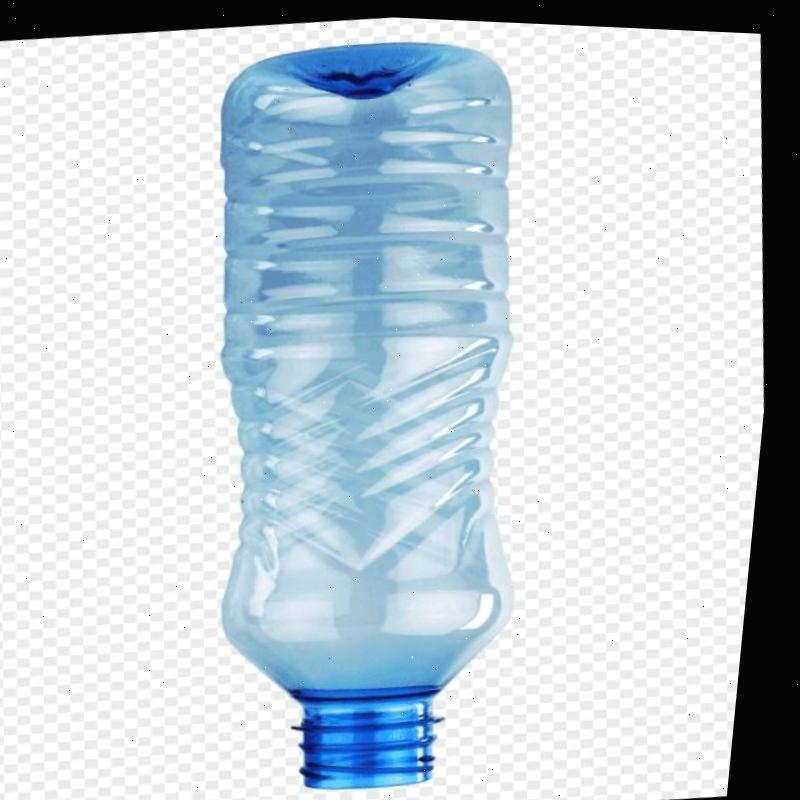botella: (161, 15, 596, 800)
